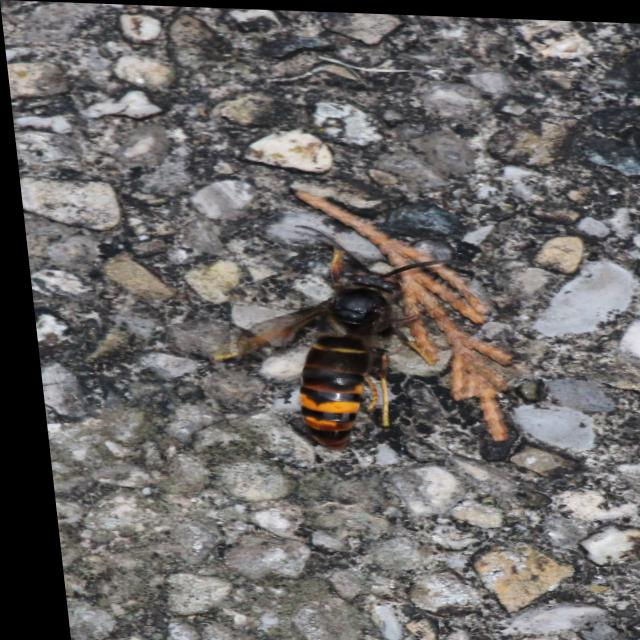Vespa Velutina: (178, 228, 497, 458)
